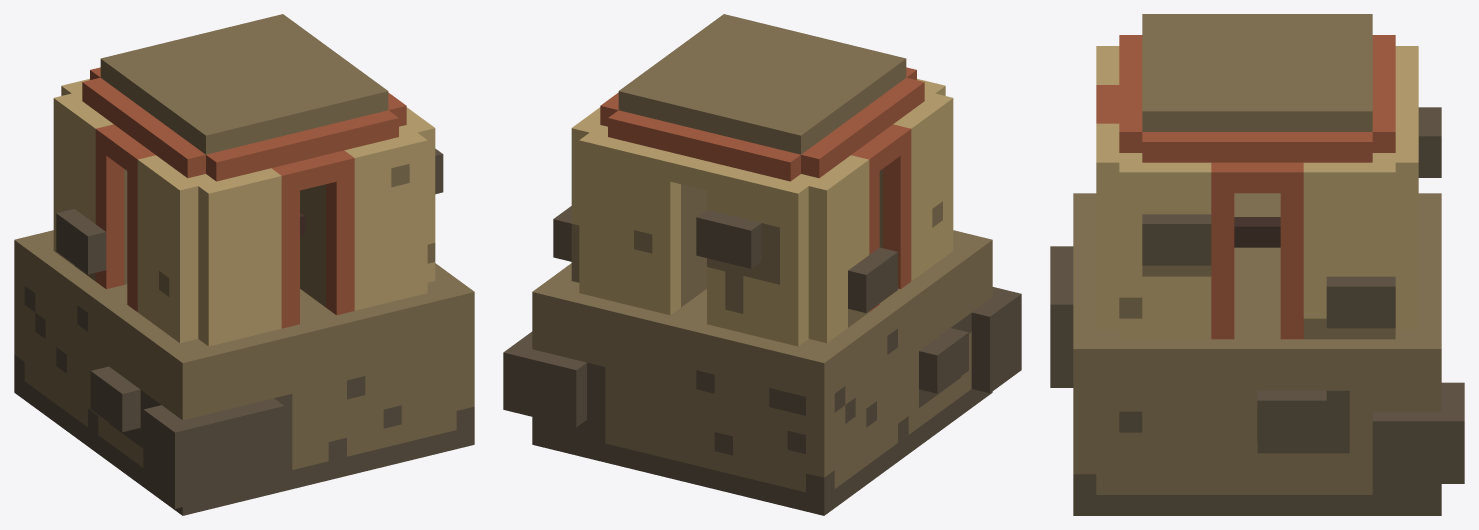
The model's file is SmallBuilding02-1.obj.
3 renders of one model, left to right at view 1: azimuth 30°, elevation 25°; view 2: azimuth 150°, elevation 25°; view 3: azimuth 270°, elevation 25°, orthographic. The views are drawn at different scales.
Bounding box in the file's own units: 1.8 × 1.8 × 1.8.
1 material, 1 textured.
